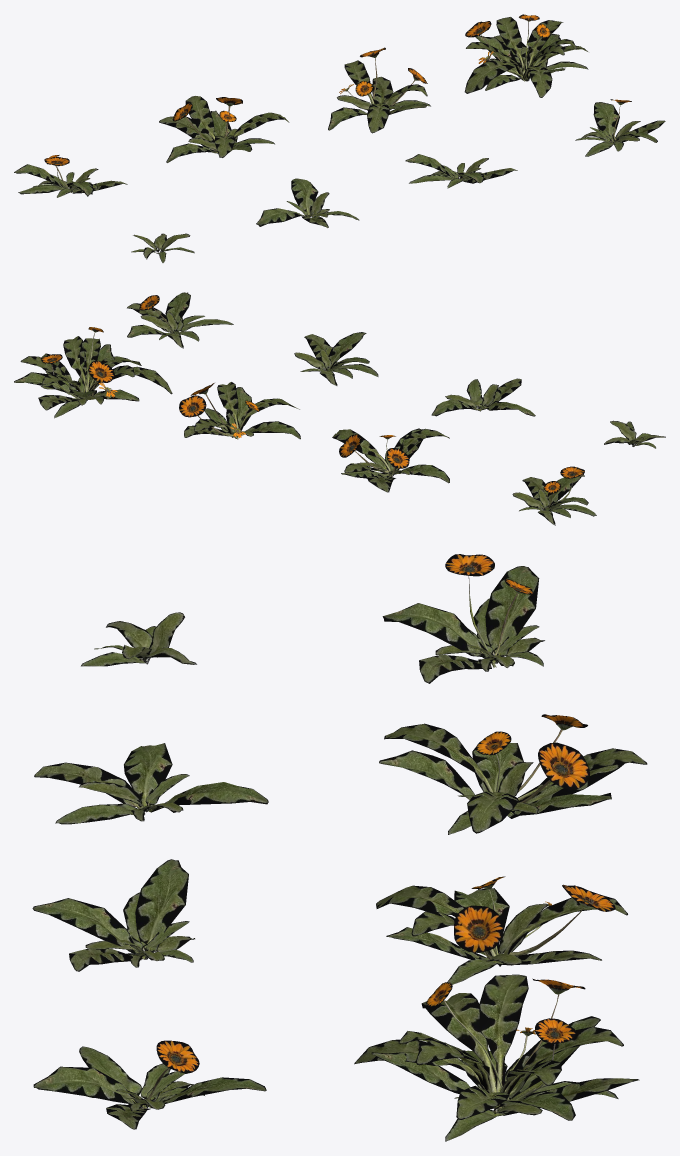
The model's file is flower_gazania.glb.
3 renders of one model, top to bottom at view 1: azimuth 30°, elevation 25°; view 2: azimuth 150°, elevation 25°; view 3: azimuth 270°, elevation 25°, orthographic. The views are drawn at different scales.
Parts seen in each view (by area): view 1: flower_gazania_a_LOD0; view 2: flower_gazania_a_LOD0; view 3: flower_gazania_a_LOD0.
Part boxes in pixels (<box>): flower_gazania_a_LOD0: <box>14,14,665,262</box>; flower_gazania_a_LOD0: <box>14,292,665,525</box>; flower_gazania_a_LOD0: <box>32,554,647,1141</box>.
Size of the model in its own units: 1.48 by 0.1656 by 0.7028.
Materials: 1 (1 with a texture image).
